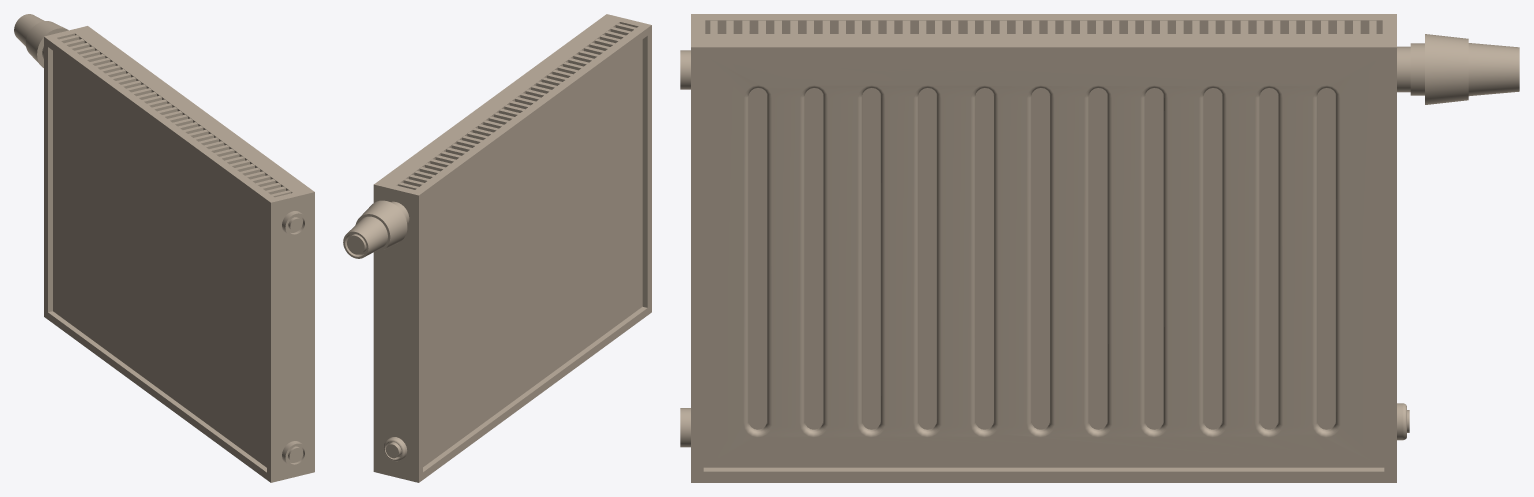
Rendered from Radiateur1_3.fbx.
3 renders of one model, left to right at view 1: azimuth 30°, elevation 25°; view 2: azimuth 150°, elevation 25°; view 3: azimuth 270°, elevation 25°, orthographic. The views are drawn at different scales.
Parts seen in each view (by area): view 1: pCube1732, pCylinder315, pCylinder316, pCylinder317; view 2: pCube1732, pCylinder315; view 3: pCube1732, pCylinder315.
Boxes of the visible parts, x1=… form: pCube1732: x1=44, y1=26, x2=314, y2=482; pCylinder315: x1=14, y1=14, x2=68, y2=67; pCylinder316: x1=282, y1=441, x2=307, y2=466; pCylinder317: x1=282, y1=211, x2=307, y2=236; pCube1732: x1=373, y1=14, x2=651, y2=482; pCylinder315: x1=343, y1=200, x2=409, y2=258; pCube1732: x1=691, y1=14, x2=1396, y2=482; pCylinder315: x1=1397, y1=34, x2=1519, y2=104.
Size of the model in its own units: 7.08 by 43.12 by 75.31.
